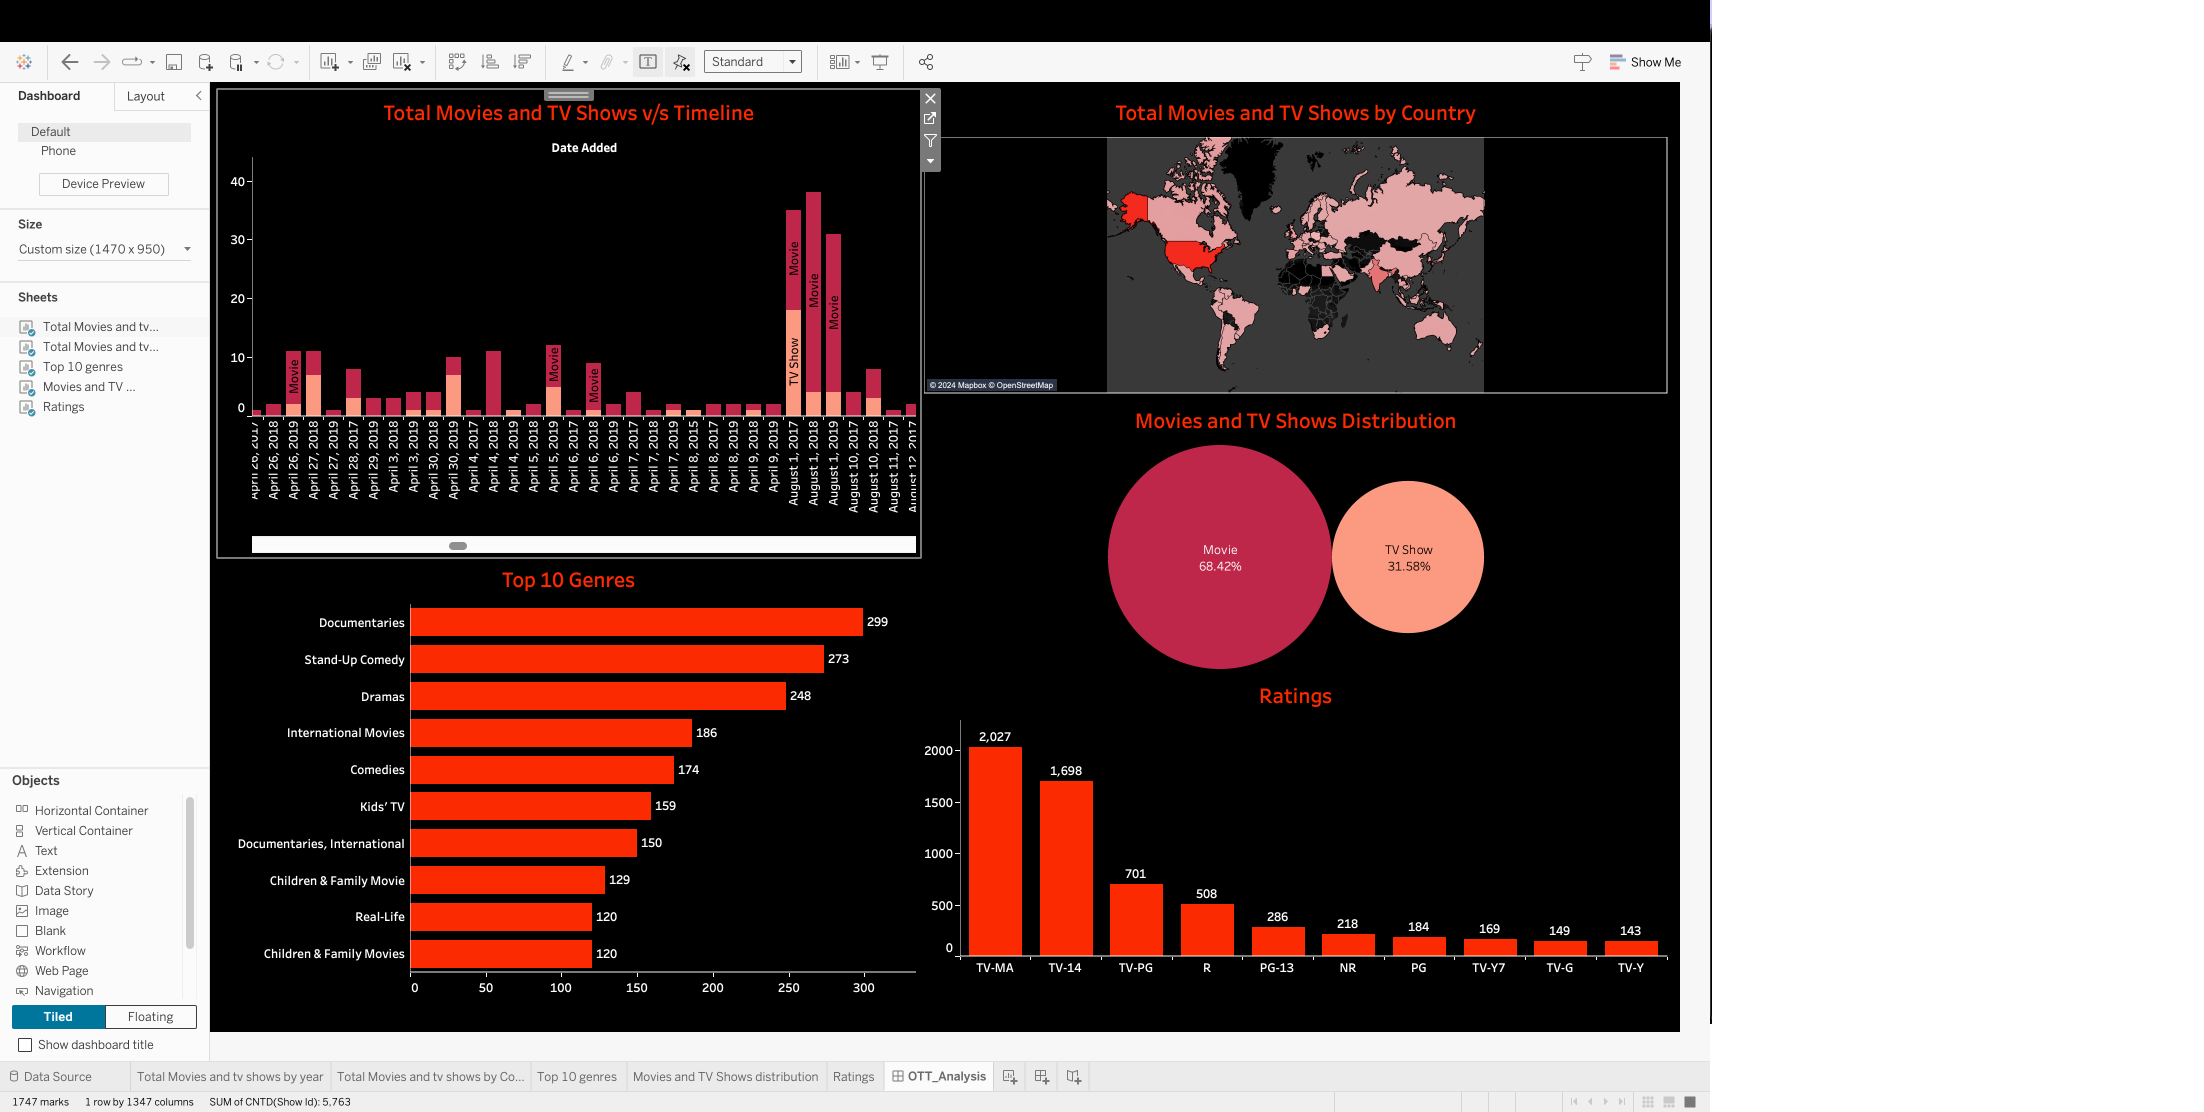

What the dashboard file says about the page in this screenshot:
{"tool":"tableau","page":{"name":"OTT_Analysis","canvas":[1470,950],"ordinal":0},"visuals":[{"type":"worksheet","title":"Total Movies and tv shows by year","mark":"Automatic","rows":["show_id"],"cols":["date_added"],"box":[8,8,702,467]},{"type":"worksheet","title":"Total Movies and tv shows by Country","mark":"Multipolygon","box":[710,8,752,308]},{"type":"worksheet","title":"Movies and TV Shows distribution","mark":"Circle","box":[710,316,752,275]},{"type":"worksheet","title":"Top 10 genres","mark":"Automatic","rows":["listed_in"],"cols":["show_id"],"box":[8,475,702,467]},{"type":"worksheet","title":"Ratings","mark":"Automatic","rows":["show_id"],"cols":["rating"],"box":[710,591,752,351]}]}

Visuals, with their boxes on the page's 1470x950 design canvas (x1, y1, x2, y2). These are canvas units, not pixel positions in the 2204x1112 screenshot, which may show the page scaled, cropped or inside an application window:
"Total Movies and tv shows by year" worksheet: l=8, t=8, r=710, b=475
"Total Movies and tv shows by Country" worksheet (Multipolygon marks): l=710, t=8, r=1462, b=316
"Movies and TV Shows distribution" worksheet (Circle marks): l=710, t=316, r=1462, b=591
"Top 10 genres" worksheet: l=8, t=475, r=710, b=942
"Ratings" worksheet: l=710, t=591, r=1462, b=942
